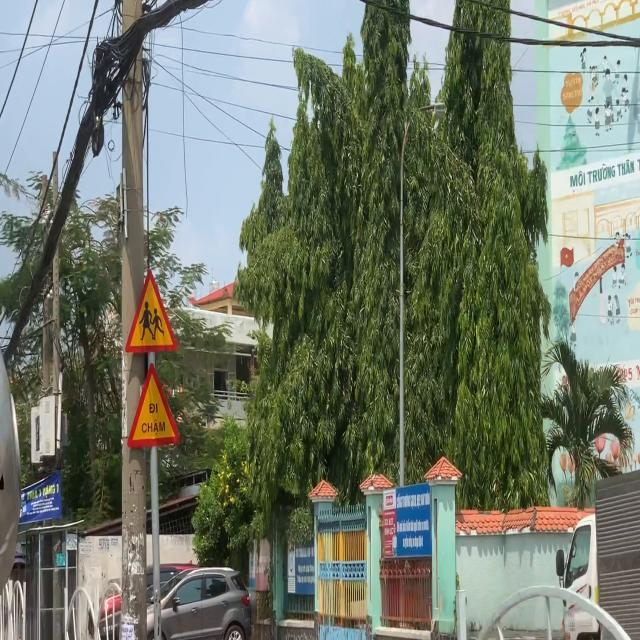Nguy hiem: (126, 361, 181, 450), (125, 268, 178, 354)
